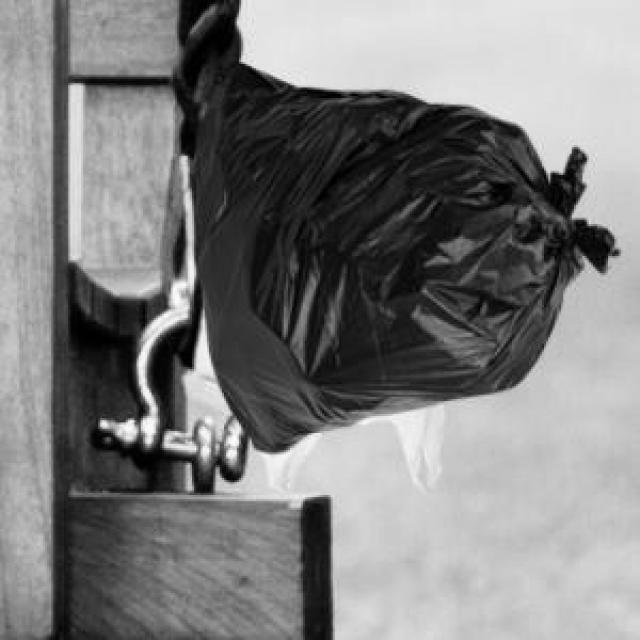miscellaneous trash: (192, 58, 614, 450)
paper: (179, 309, 227, 408)
